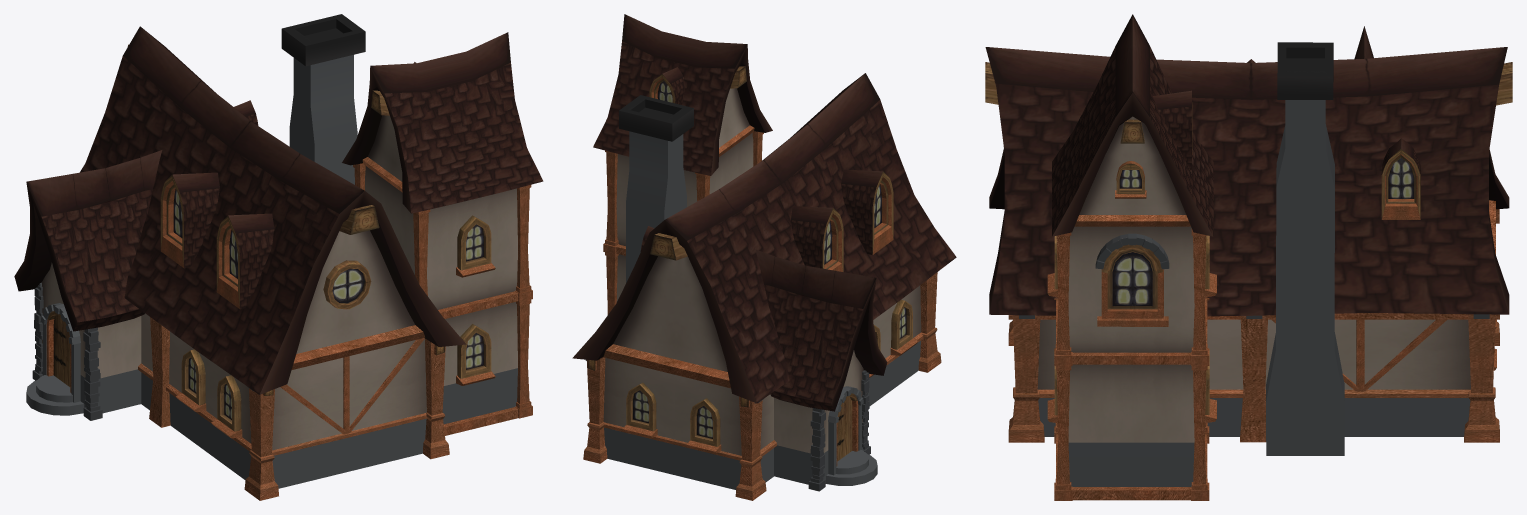
The model's file is fanasty_mod_village_building10.fbx.
3 renders of one model, left to right at view 1: azimuth 30°, elevation 25°; view 2: azimuth 150°, elevation 25°; view 3: azimuth 270°, elevation 25°, orthographic. The views are drawn at different scales.
Visible parts, largest first — view 1: village_building_10; view 2: village_building_10; view 3: village_building_10.
Part boxes in pixels (x1=…): village_building_10: x1=14, y1=14, x2=543, y2=500; village_building_10: x1=572, y1=14, x2=956, y2=500; village_building_10: x1=985, y1=14, x2=1512, y2=500.
Size of the model in its own units: 12.24 by 10.88 by 12.57.
